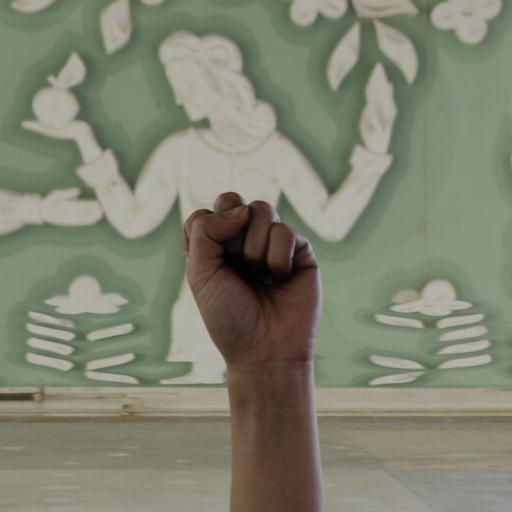S: (162, 176, 352, 403)
